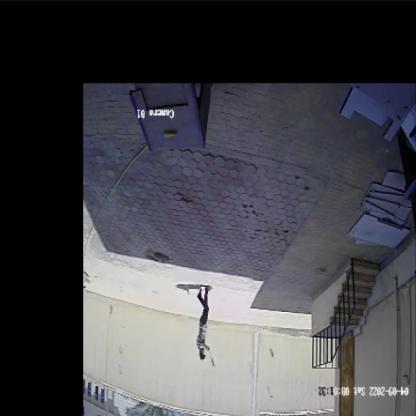handgun: (206, 348, 220, 375)
